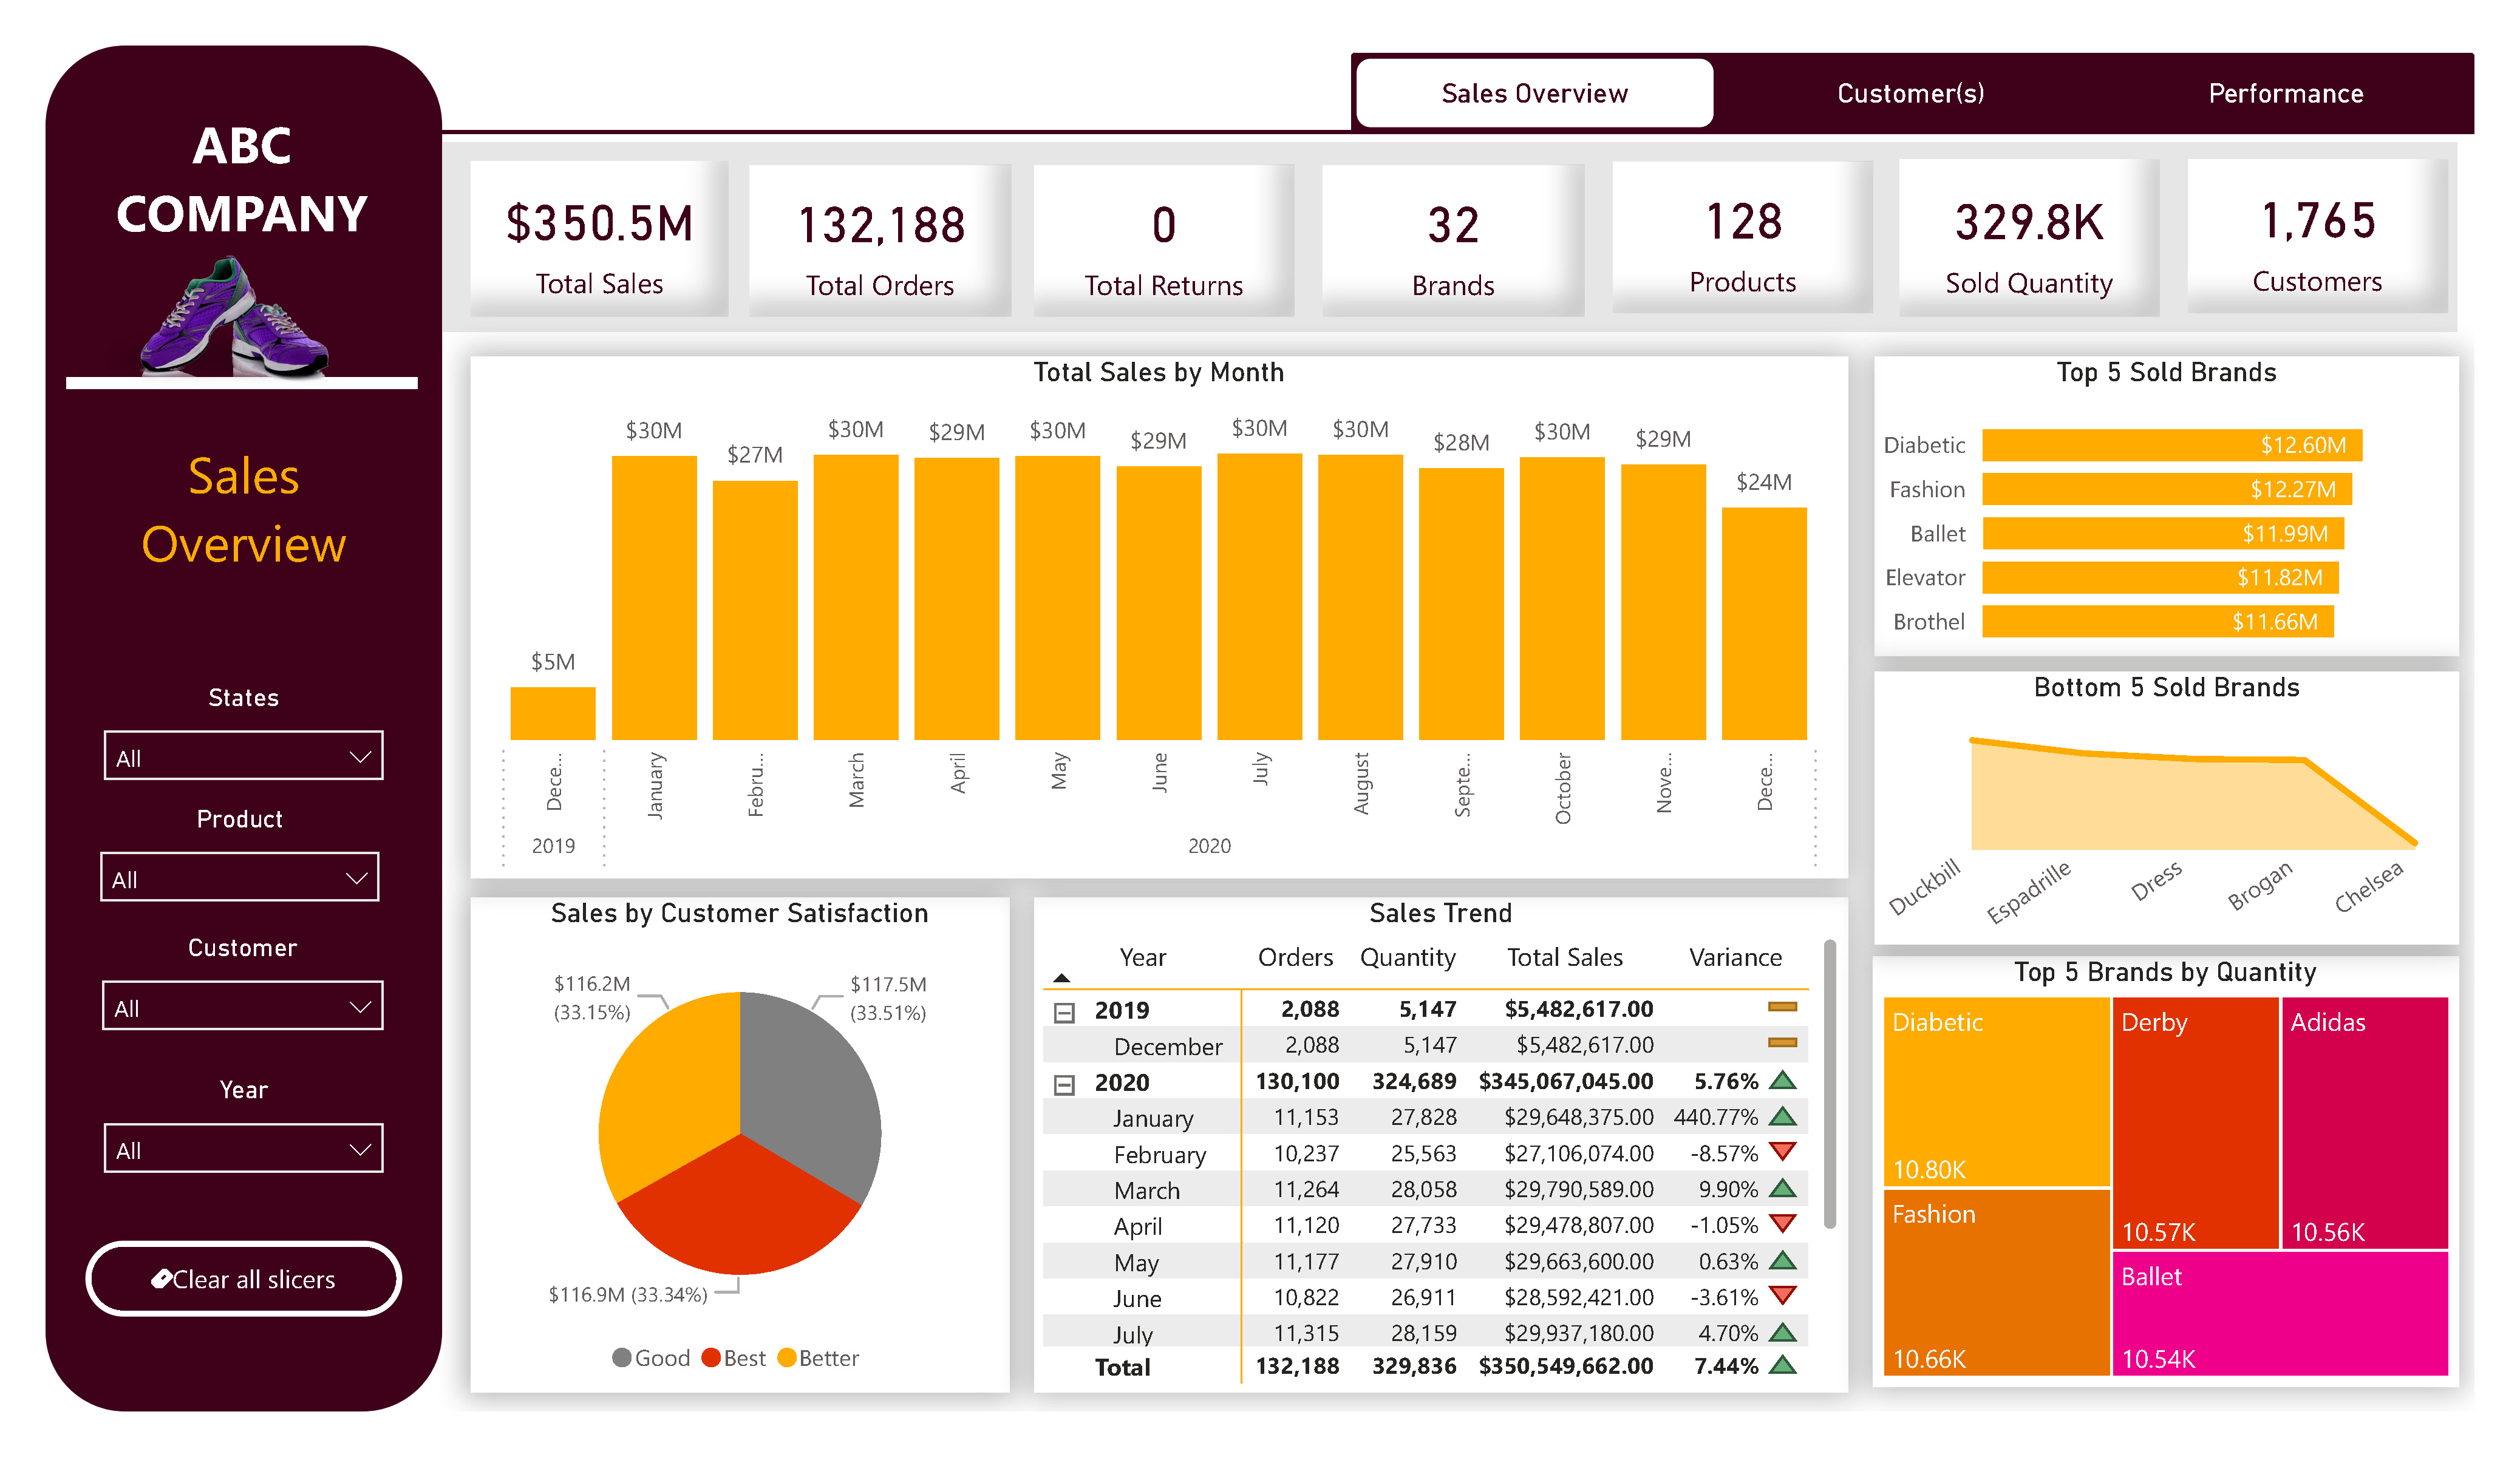

Layout of this report page (visuals, bound fields, positions):
{"tool":"powerbi","page":{"name":"Sales Overview","canvas":[1280,720],"ordinal":0},"visuals":[{"type":"shape","box":[0,0,208.9,720],"z":0},{"type":"slicer","title":"States","fields":{"Values":["tblWarehouse.Warehouse Code"]},"box":[20.8,336.4,166.8,65.3],"z":1000},{"type":"slicer","title":"Customer","fields":{"Values":["tblLogistics.3PL Name"]},"box":[20.3,467.6,167.6,78.4],"z":2000},{"type":"slicer","title":"Year","fields":{"Values":["tblTransaction.Order Date.Variation.Date Hierarchy.Year"]},"box":[21.1,543.5,166.6,64.9],"z":3000},{"type":"actionButton","box":[20.8,630,167.1,40],"z":4000},{"type":"textbox","box":[14.7,201.9,179.3,98.8],"z":5000},{"type":"shape","box":[208.6,51.4,1062.9,100],"z":6000},{"type":"card","fields":{"Values":["Sum(tblTransaction.Total Amount)"]},"box":[223.8,61.2,136.2,82],"z":7000},{"type":"card","fields":{"Values":["Count(tblTransaction.Order No)"]},"box":[371.4,62.9,137.1,80],"z":8000},{"type":"card","fields":{"Values":["Sum(tblTransaction.Returns)"]},"box":[520.8,62.6,137.1,80],"z":9000},{"type":"card","fields":{"Values":["Count(tblTransaction.Customer No.)"]},"box":[1128.6,60,137.1,81.4],"z":10000},{"type":"card","fields":{"Values":["Sum(tblTransaction.Quantity)"]},"box":[977.1,60,137.1,82.9],"z":11000},{"type":"pieChart","title":"Sales by Customer Satisfaction","fields":{"Y":["Sum(tblTransaction.Total Amount)"],"Category":["tblTransaction.Customer Satisfaction Rate"]},"box":[224.4,448.9,283.3,261.1],"z":12000},{"type":"shape","box":[201.4,36.7,1078.6,16.9],"z":13000},{"type":"shape","box":[10.6,163.6,185.4,29.8],"z":13000,"group":"g1"},{"type":"group","id":"g1","title":"Group 1","box":[10.6,28.5,185.4,182.8],"z":14000},{"type":"textbox","box":[20.5,28.5,165.6,90.1],"z":14000,"group":"g1"},{"type":"card","fields":{"Values":["Count(tblProducts.Product Name)"]},"box":[825.7,61.4,137.1,80],"z":15000},{"type":"image","box":[20.5,86.1,133.1,125.2],"z":15000,"group":"g1"},{"type":"clusteredBarChart","title":"Top 5 Sold Brands","fields":{"Category":["tblProducts.Brand Name"],"Y":["Sum(tblTransaction.Total Amount)"]},"box":[963.6,163.6,308,158],"z":16000},{"type":"card","fields":{"Values":["Count(tblBrands.Brand Name)"]},"box":[672.9,62.9,138.6,80],"z":17000},{"type":"slicer","title":"Product","fields":{"Values":["tblProducts.Product Name"]},"box":[18.9,400,167.6,66.2],"z":18000},{"type":"pageNavigator","box":[688.3,4.3,591.5,41.5],"z":19000},{"type":"pivotTable","title":"Sales Trend","fields":{"Rows":["tblTransaction.Order Date.Variation.Date Hierarchy.Year","tblTransaction.Order Date.Variation.Date Hierarchy.Month"],"Values":["Count(tblTransaction.Order No)","Sum(tblTransaction.Quantity)","Sum(tblTransaction.Total Amount)","tblAgents.Sum of Total Amount MoM%"]},"box":[521.4,448.6,428.6,261.4],"z":20000},{"type":"clusteredColumnChart","title":"Total Sales by Month","fields":{"Category":["tblTransaction.Order Date.Variation.Date Hierarchy.Year","tblTransaction.Order Date.Variation.Date Hierarchy.Month"],"Y":["Sum(tblTransaction.Total Amount)"]},"box":[224.3,164.3,725.7,274.3],"z":21000},{"type":"treemap","title":"Top 5 Brands by Quantity","fields":{"Group":["tblProducts.Brand Name"],"Values":["Sum(tblTransaction.Quantity)"]},"box":[963,480,309,227],"z":22000},{"type":"stackedAreaChart","title":"Bottom 5 Sold Brands","fields":{"Category":["tblProducts.Brand Name"],"Y":["Sum(tblTransaction.Total Amount)"]},"box":[964,330,308,144],"z":23000}]}

Visuals, with their boxes on the page's 1280x720 design canvas (x1, y1, x2, y2). These are canvas units, not pixel positions in the 2520x1457 screenshot, which may show the page scaled, cropped or inside an application window:
shape: locate(0, 0, 209, 720)
"States" slicer: locate(21, 336, 188, 402)
"Customer" slicer: locate(20, 468, 188, 546)
"Year" slicer: locate(21, 544, 188, 608)
actionButton: locate(21, 630, 188, 670)
textbox: locate(15, 202, 194, 301)
shape: locate(209, 51, 1272, 151)
card - Sum(tblTransaction.Total Amount): locate(224, 61, 360, 143)
card - Count(tblTransaction.Order No): locate(371, 63, 508, 143)
card - Sum(tblTransaction.Returns): locate(521, 63, 658, 143)
card - Count(tblTransaction.Customer No.): locate(1129, 60, 1266, 141)
card - Sum(tblTransaction.Quantity): locate(977, 60, 1114, 143)
"Sales by Customer Satisfaction" pieChart: locate(224, 449, 508, 710)
shape: locate(201, 37, 1280, 54)
shape: locate(11, 164, 196, 193)
"Group 1" group: locate(11, 28, 196, 211)
textbox: locate(20, 28, 186, 119)
card - Count(tblProducts.Product Name): locate(826, 61, 963, 141)
image: locate(20, 86, 154, 211)
"Top 5 Sold Brands" clusteredBarChart: locate(964, 164, 1272, 322)
card - Count(tblBrands.Brand Name): locate(673, 63, 812, 143)
"Product" slicer: locate(19, 400, 186, 466)
pageNavigator: locate(688, 4, 1280, 46)
"Sales Trend" pivotTable: locate(521, 449, 950, 710)
"Total Sales by Month" clusteredColumnChart: locate(224, 164, 950, 439)
"Top 5 Brands by Quantity" treemap: locate(963, 480, 1272, 707)
"Bottom 5 Sold Brands" stackedAreaChart: locate(964, 330, 1272, 474)
